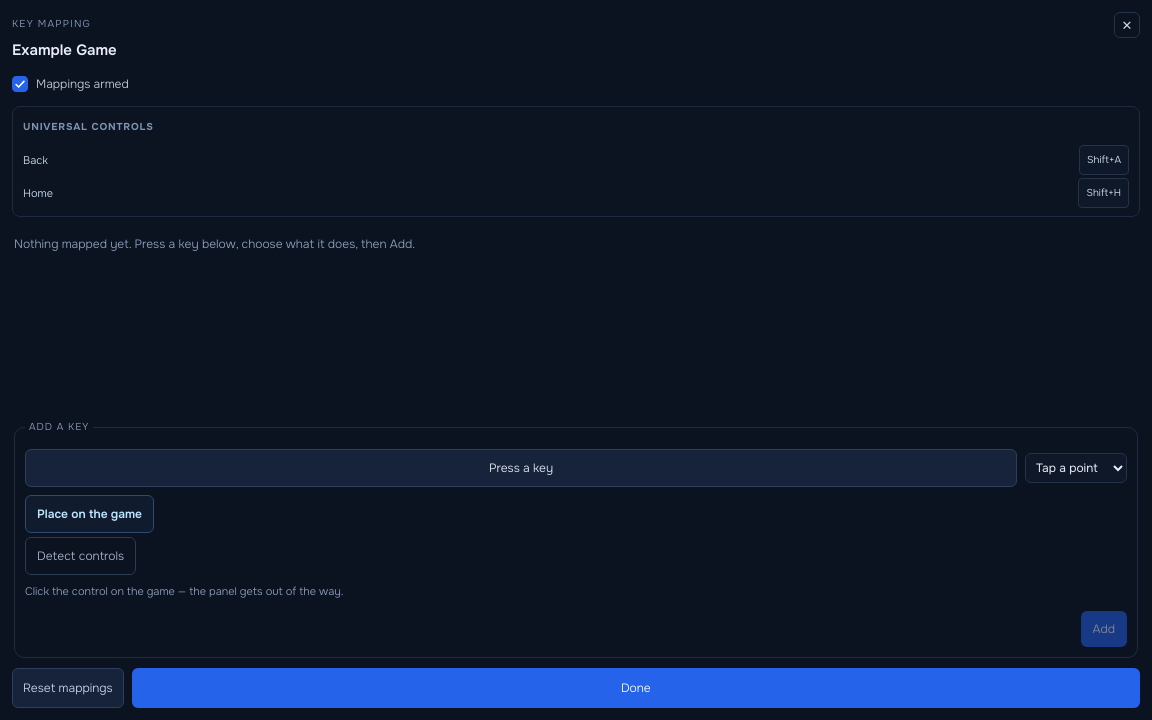
Test case: key-mapping panel › lists the controls Android names and arms placement for the chosen one
Click the button "Detect controls": (81, 556) [25,537,136,575]
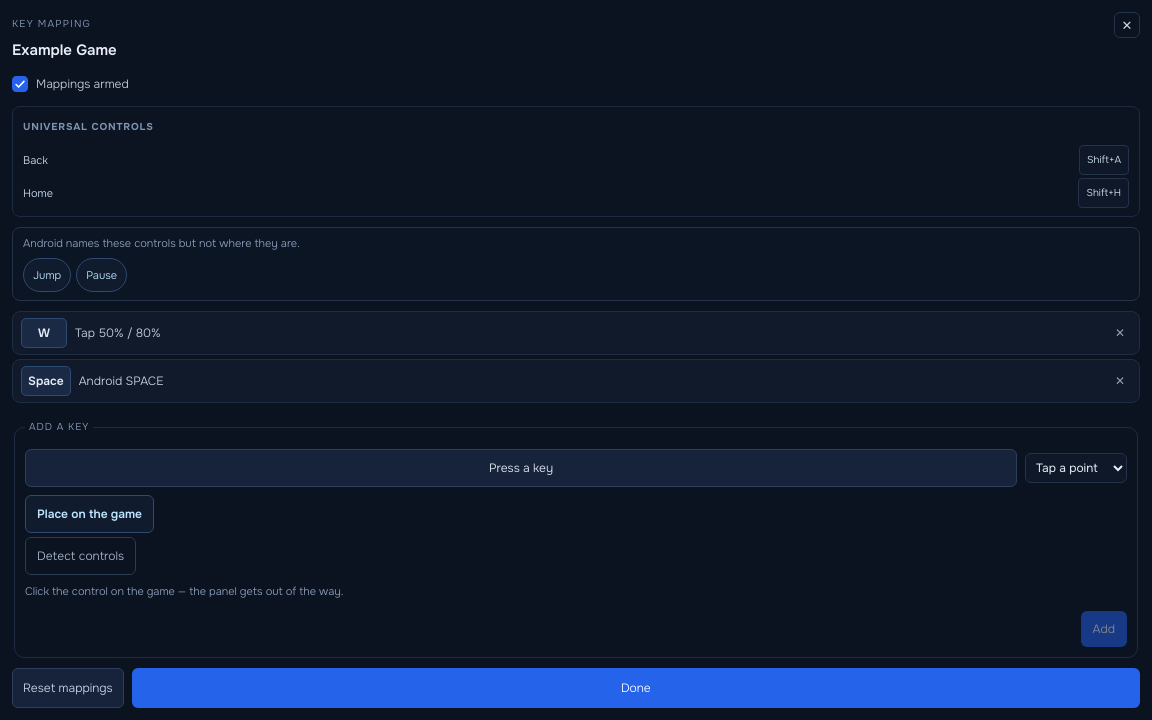
Click the button "Jump": (47, 275) [23,258,71,292]
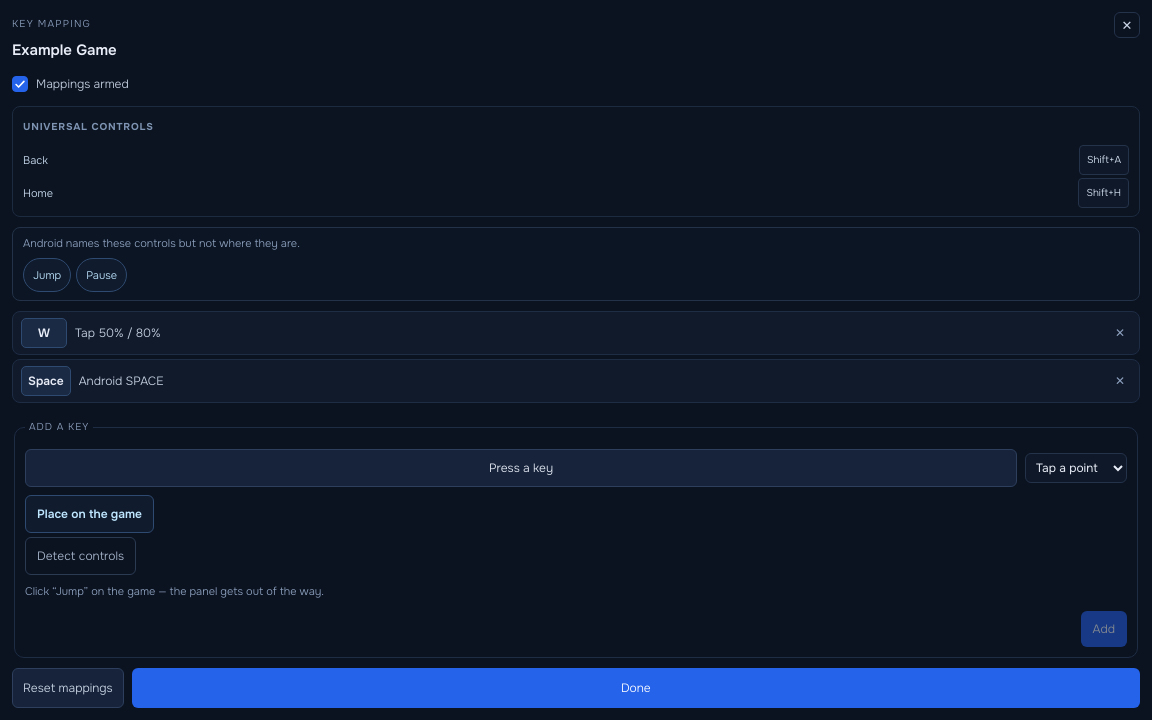
Result: the text "Click “Jump” on the game — the panel gets out of the way." is shown at [25,584,324,598]
